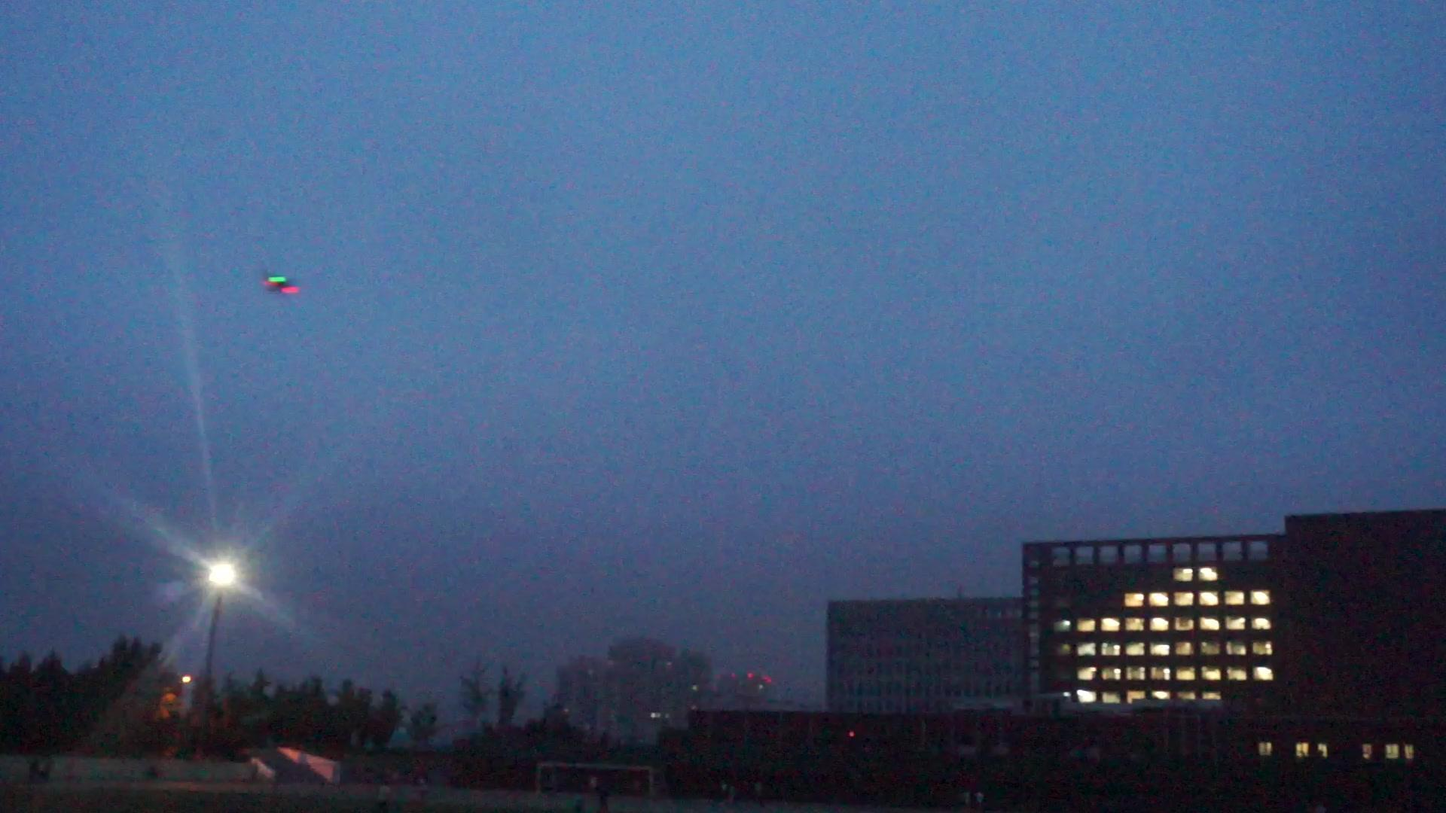UAV: (261, 273, 302, 294)
